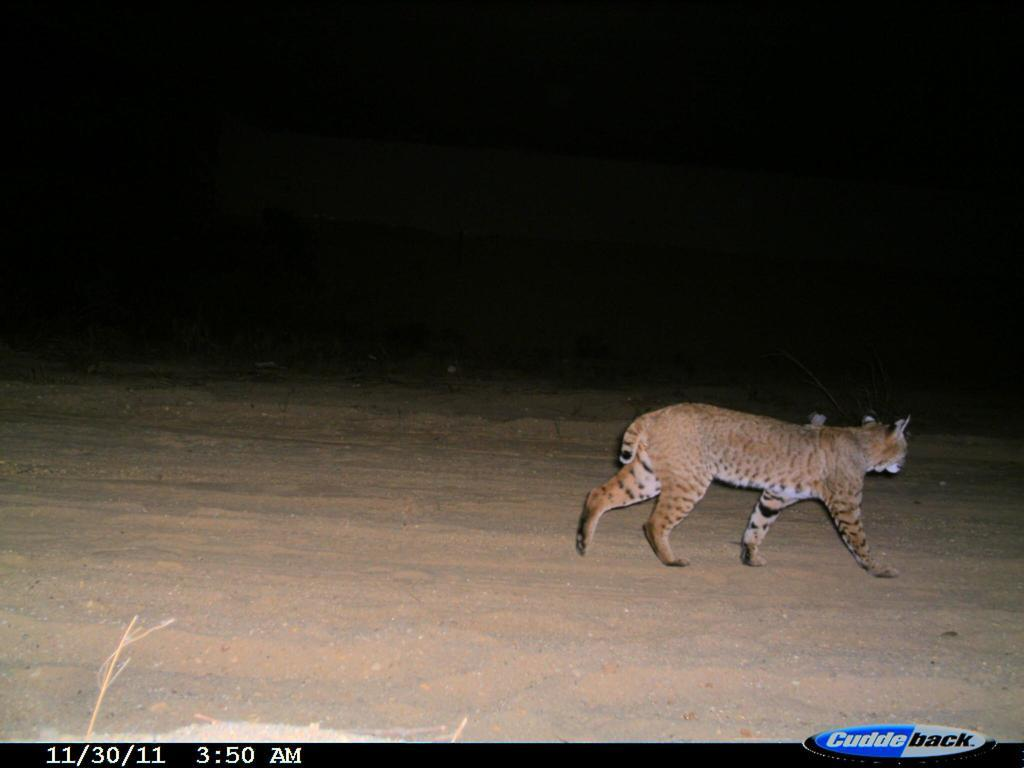bobcat: (570, 374, 946, 589)
